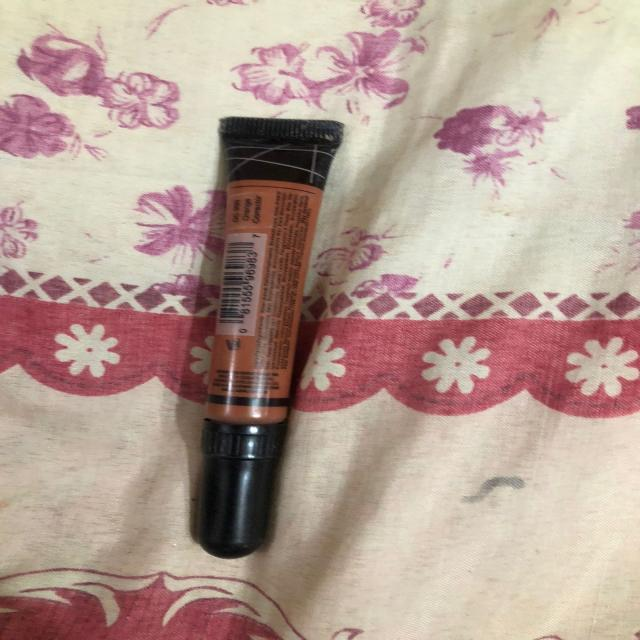concealer: (182, 103, 349, 567)
